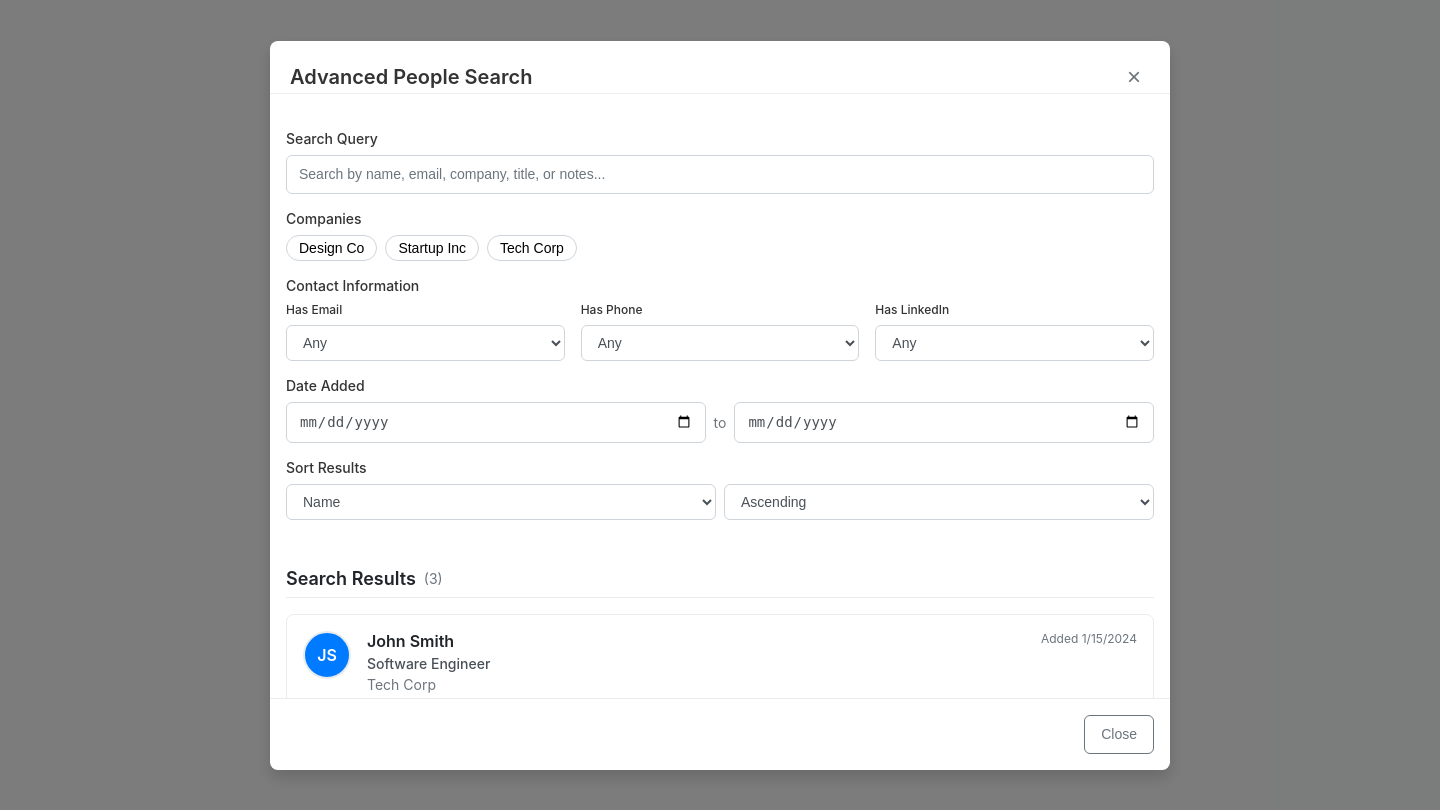
Scenario: PeopleSearch › filters by phone availability
Step 1. Select "Yes" in the dropdown showing "Any" below "Has Phone" → (720, 342), box [581,324,859,360]
(page scrolled)
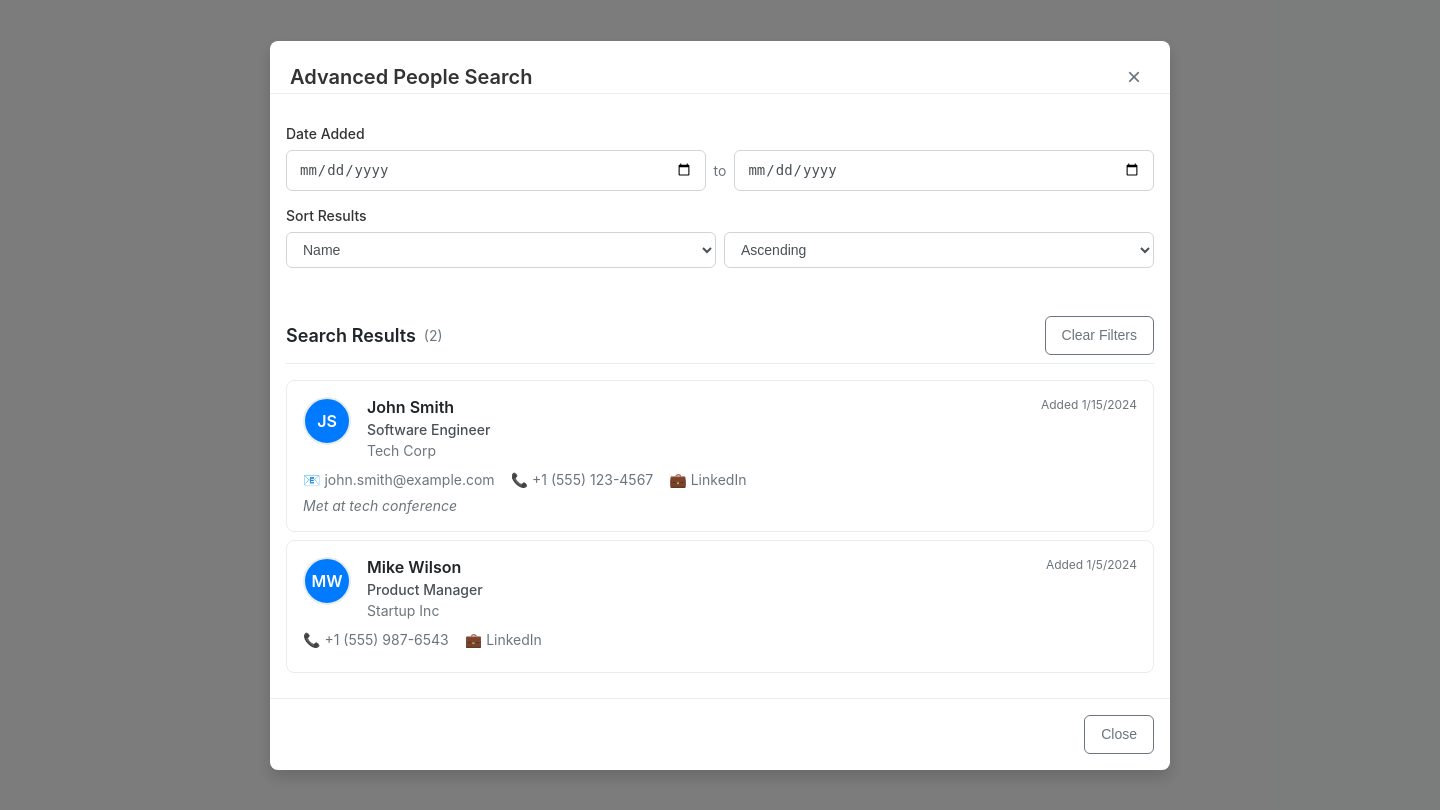
Expected: the heading "John Smith" is shown, [367,396,454,416]
Expected: the heading "Mike Wilson" is shown, [367,557,461,577]
